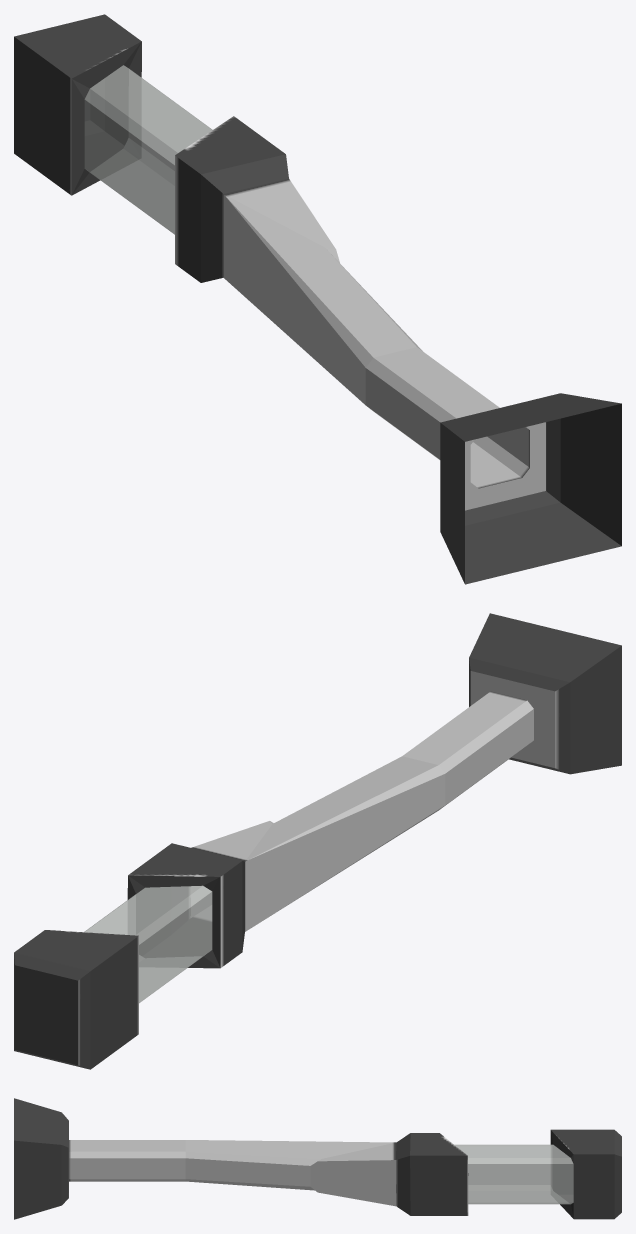
The model's file is lamp.fbx.
3 views of the same model, one above another, from view 1: azimuth 30°, elevation 25°; view 2: azimuth 150°, elevation 25°; view 3: azimuth 270°, elevation 25° (orthographic). The views are drawn at different scales.
Visible parts, largest first — view 1: Cube.002, Cube.004, Cube, Cube.001, Cube.003, Cube.005; view 2: Cube.004, Cube.002, Cube, Cube.005, Cube.001, Cube.003; view 3: Cube.004, Cube.001, Cube, Cube.002, Cube.005, Cube.003.
Part boxes in pixels (x1,y1,x2,y2): Cube.002: (440, 393, 621, 584); Cube.004: (223, 178, 422, 404); Cube: (14, 14, 141, 195); Cube.001: (84, 65, 212, 234); Cube.003: (365, 347, 529, 488); Cube.005: (175, 116, 288, 282); Cube.004: (190, 756, 445, 931); Cube.002: (469, 613, 621, 774); Cube: (14, 930, 138, 1069); Cube.005: (127, 843, 244, 968); Cube.001: (84, 885, 212, 1003); Cube.003: (402, 691, 533, 808); Cube.004: (185, 1140, 396, 1206); Cube.001: (454, 1144, 573, 1204); Cube: (550, 1129, 621, 1219); Cube.002: (14, 1098, 68, 1219); Cube.005: (396, 1133, 468, 1215); Cube.003: (69, 1140, 185, 1181).
Bounding box in the file's own units: 139 × 104 × 727.
Materials: 2 (1 with a texture image).
